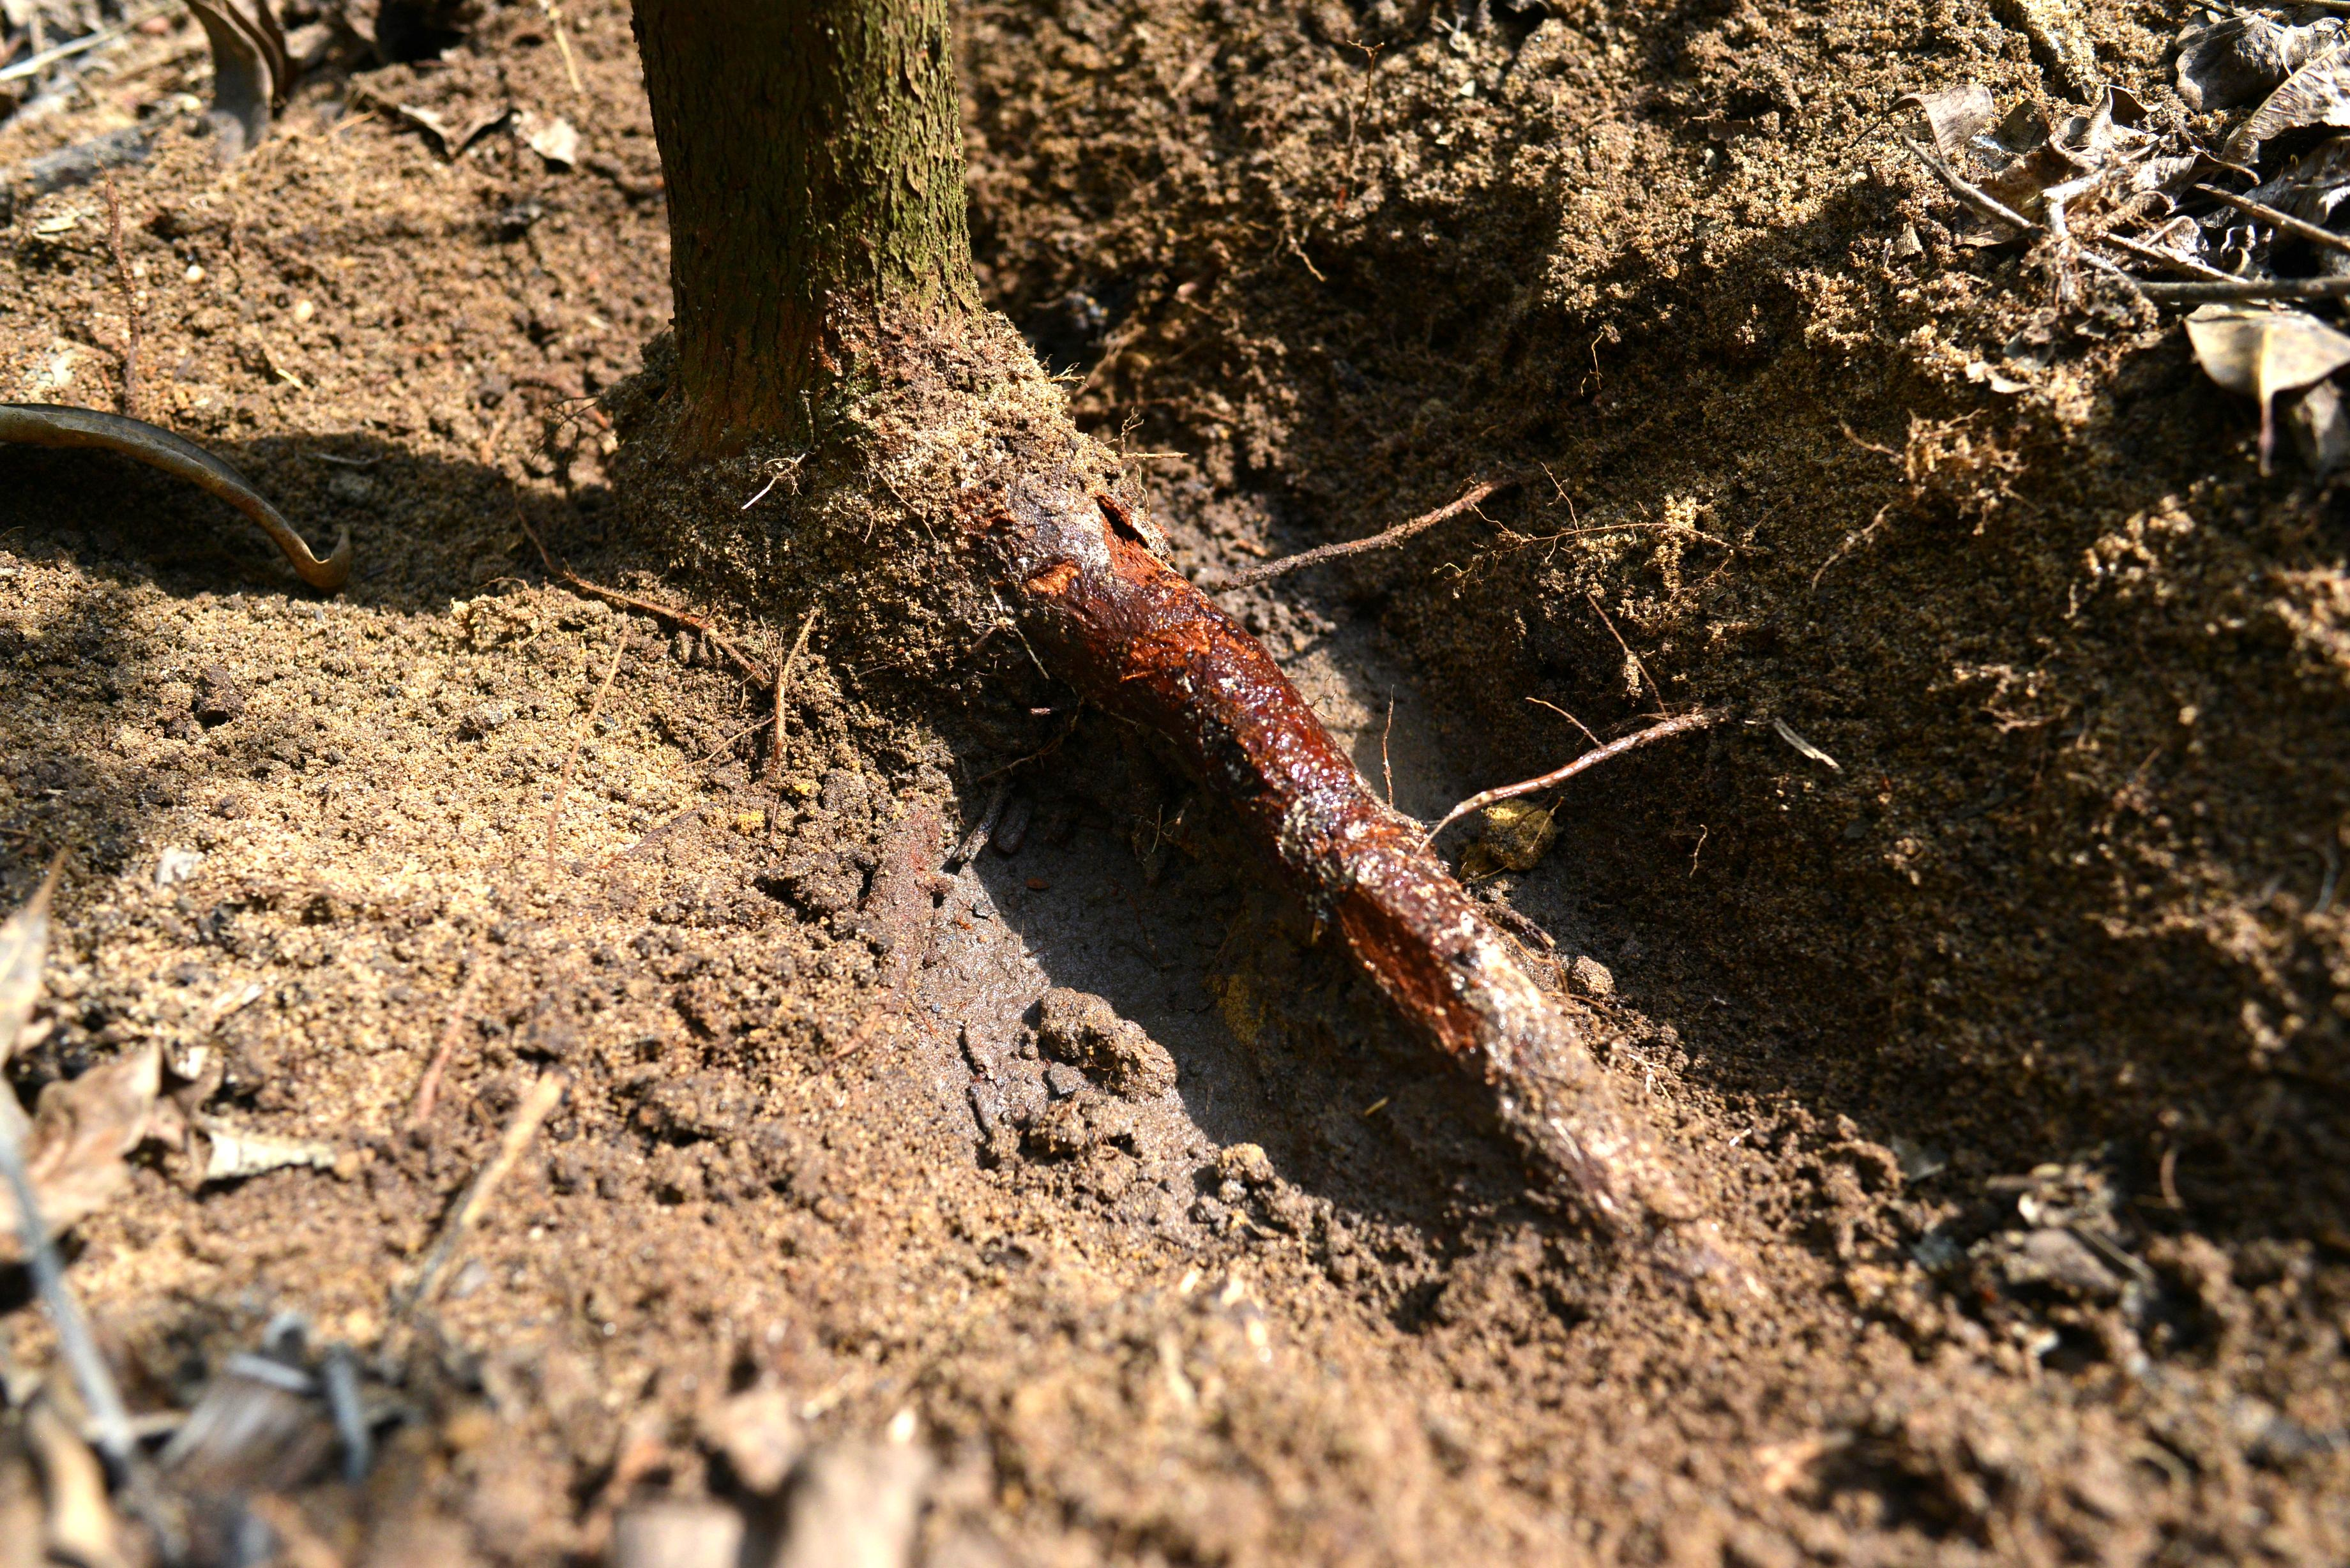Red Root Rot - Secretion: (1052, 493, 1510, 1064)
